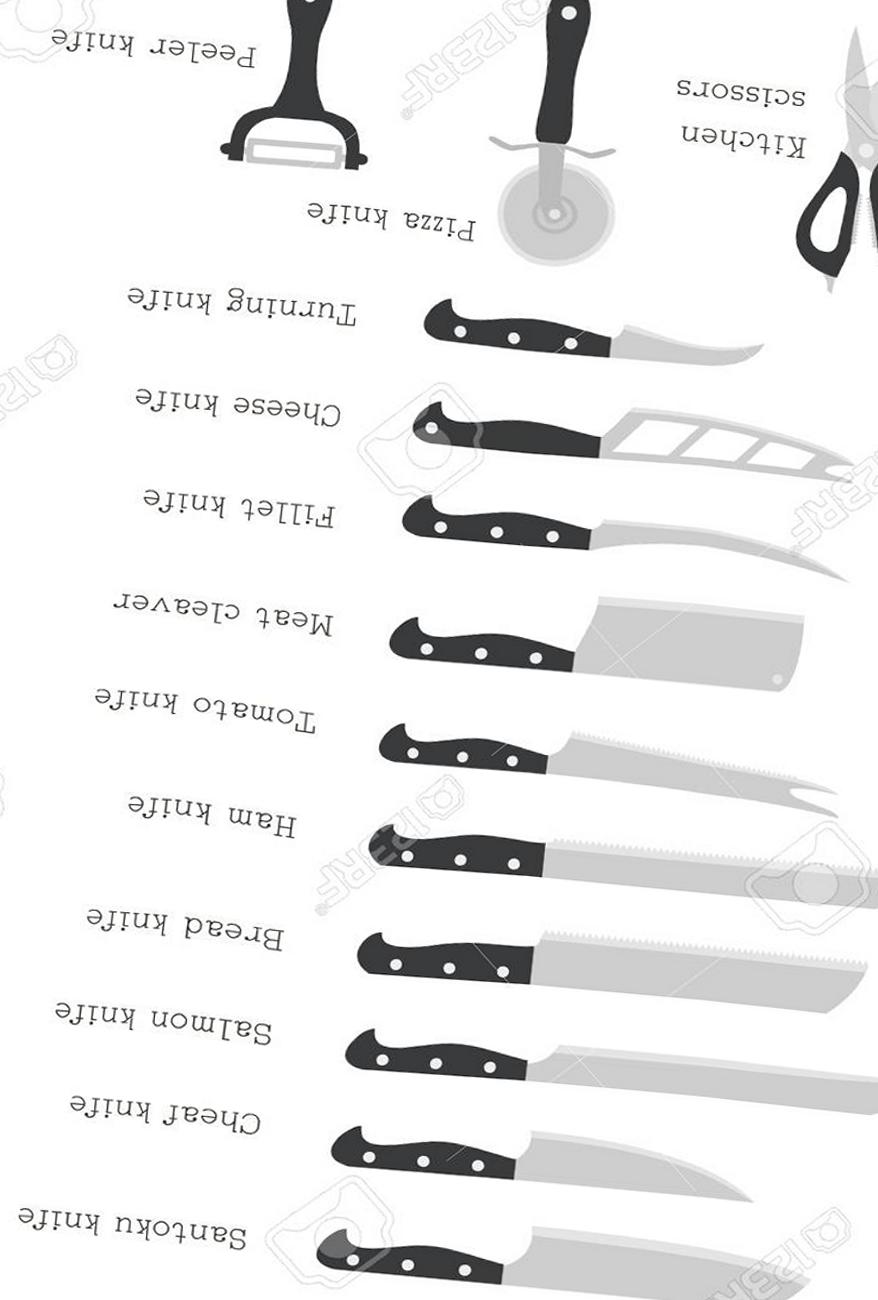knife: (330, 1124, 752, 1206)
